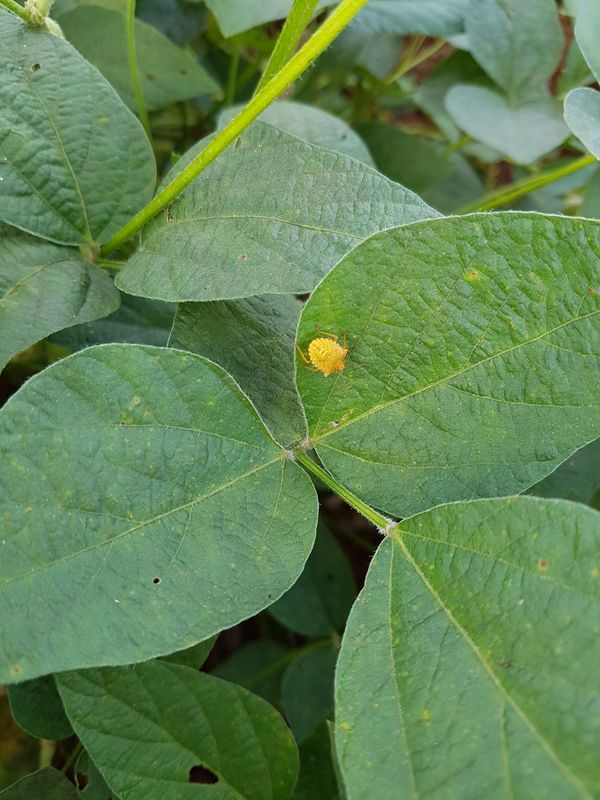Euschistus_heros_ninfa: (288, 320, 363, 386)
